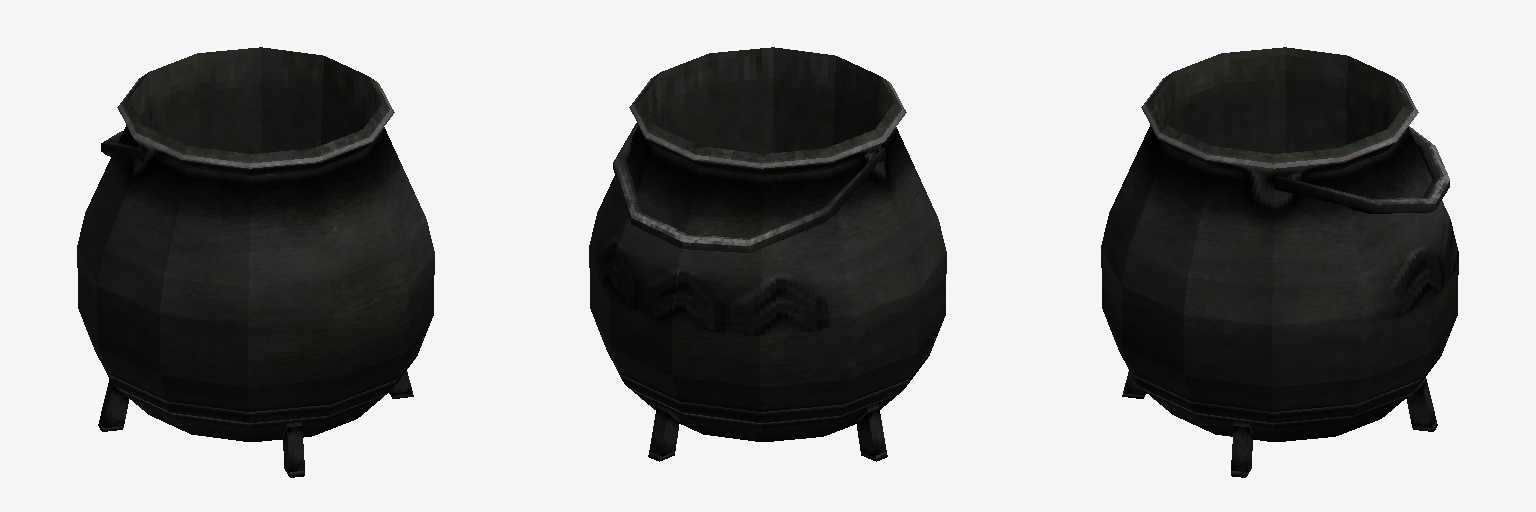
The picture shows the model from 3 angles: view 1: azimuth 30°, elevation 25°; view 2: azimuth 150°, elevation 25°; view 3: azimuth 270°, elevation 25°; orthographic projection.
Parts seen in each view (by area): view 1: material_0; view 2: material_0; view 3: material_0.
Boxes of the visible parts, x1,y1,x2,y2 form: material_0: [77, 47, 434, 477]; material_0: [589, 47, 946, 461]; material_0: [1101, 47, 1458, 477].
Bounding box in the file's own units: 59.67 × 57.11 × 59.67.
1 materials, 1 textured.